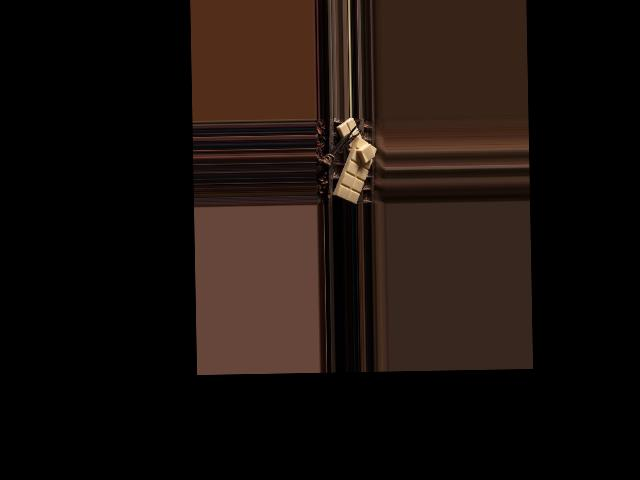chocolate: (333, 134, 377, 203)
